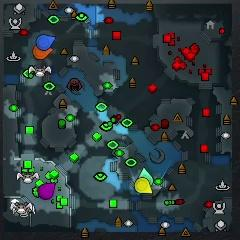p1: (36, 34, 55, 50)
p2: (139, 168, 154, 186)
p3: (38, 182, 56, 200)
p4: (135, 178, 153, 193)
p5: (33, 44, 54, 60)
